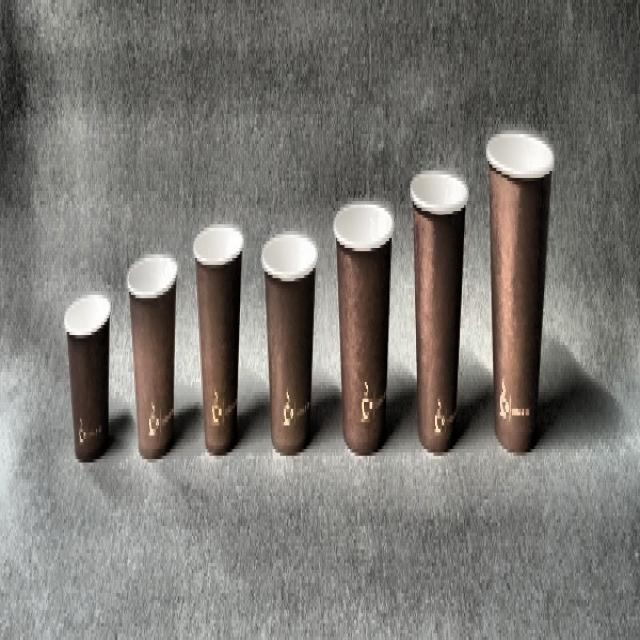Cup: (485, 108, 555, 458), (406, 169, 469, 452), (333, 185, 394, 455), (258, 218, 317, 458), (192, 213, 246, 466), (125, 242, 182, 460), (59, 291, 112, 464)
